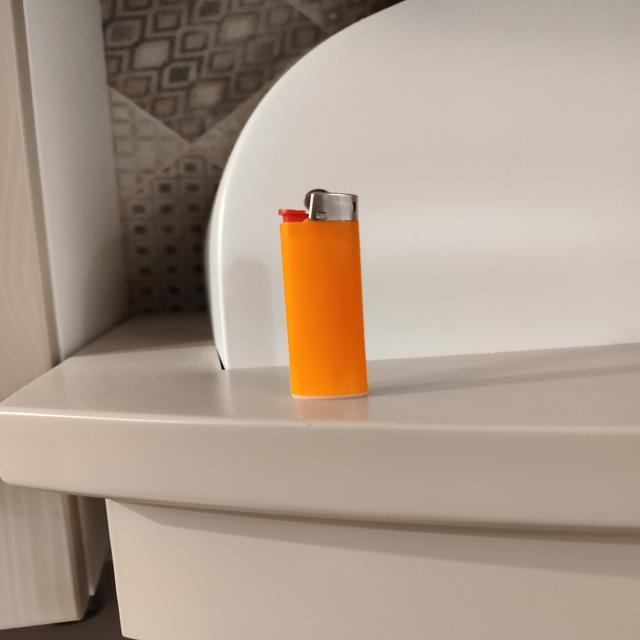lighter: (279, 189, 367, 397)
